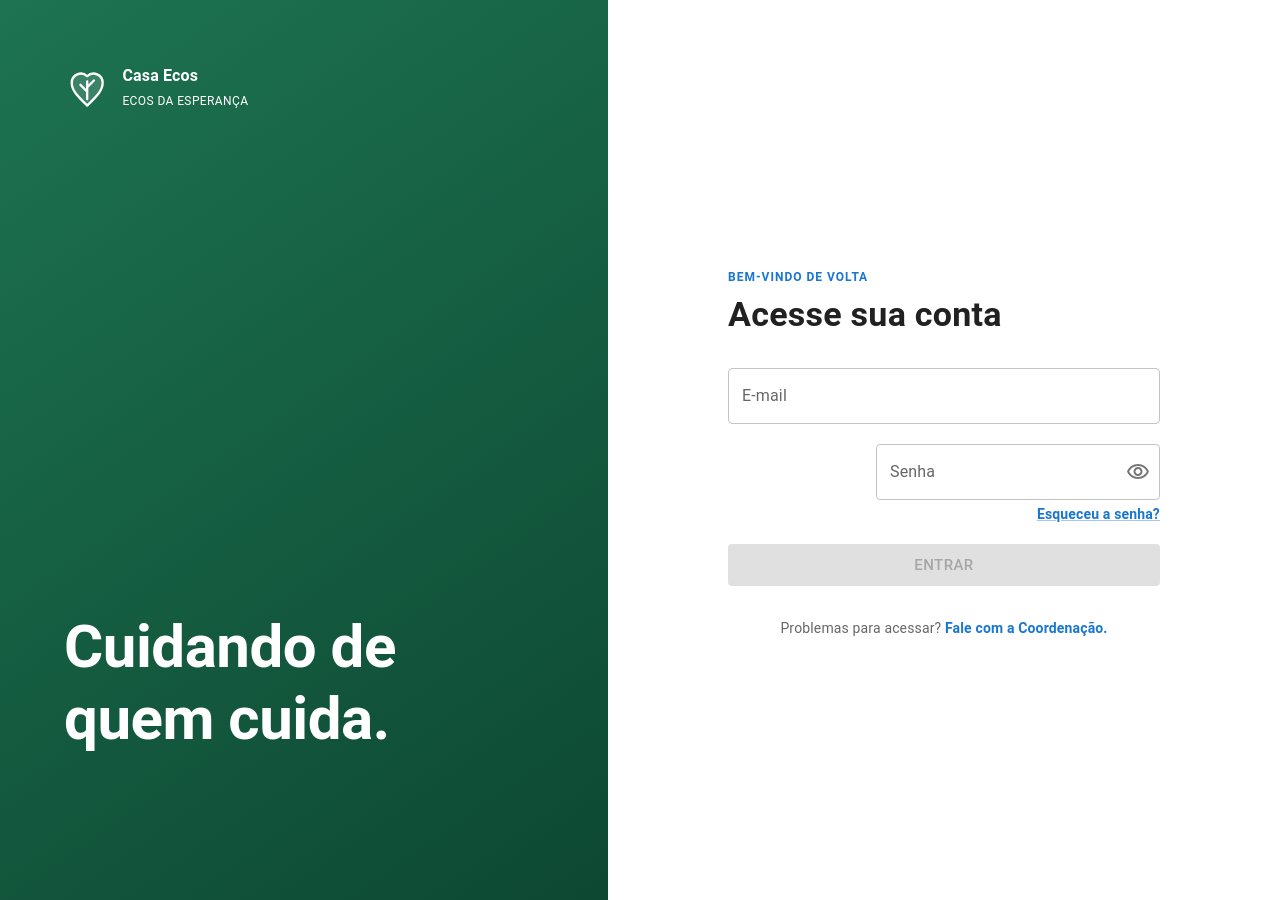
App › mostra a mensagem da API para excesso de tentativas
This screenshot has width=1280, height=900.
Type "maria@ecos.org" into the field labelled "E-mail" at (944, 396), box [728,368,1160,424]
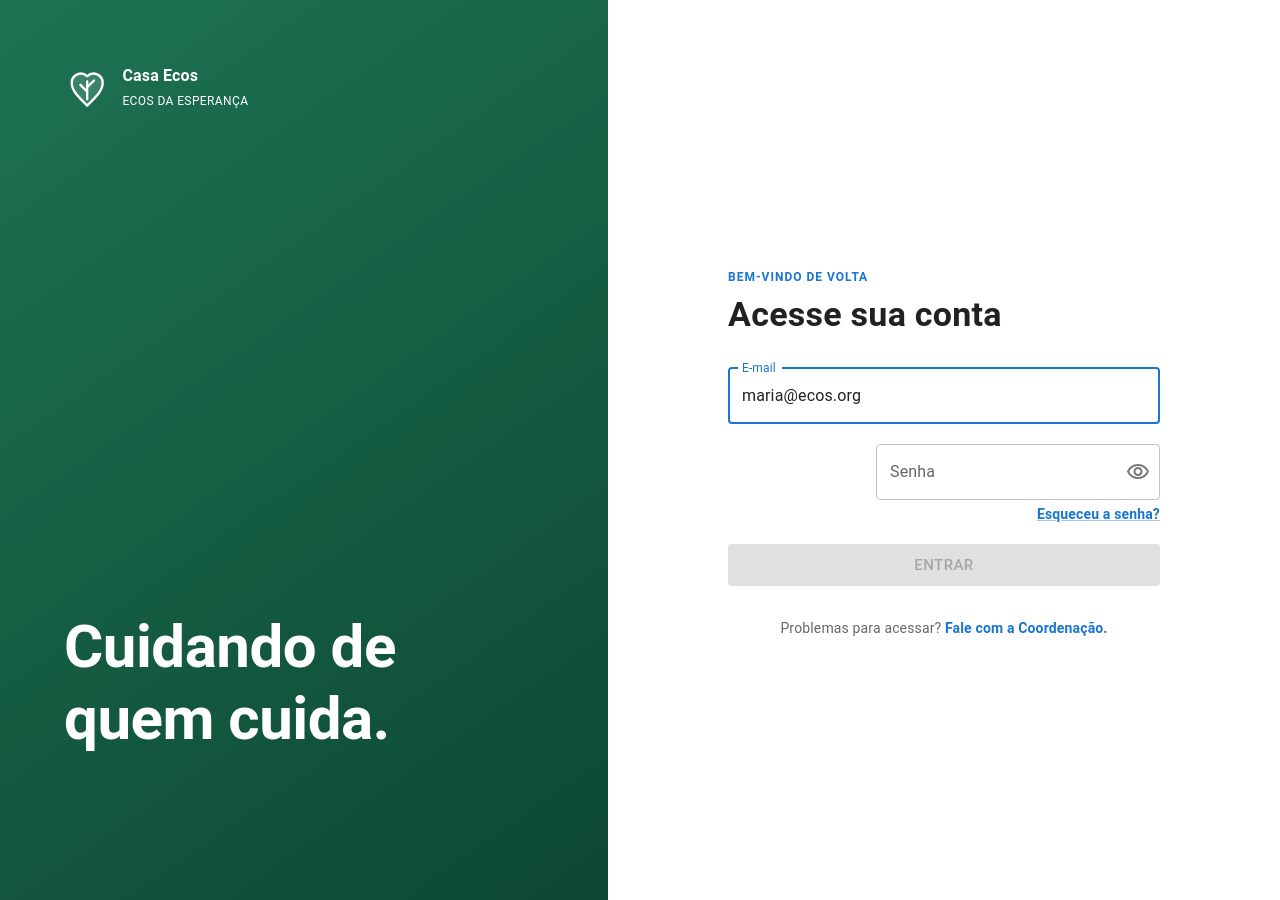
Type "senha-errada" into the password field labelled "Senha" at (993, 472), box [876,444,1110,500]
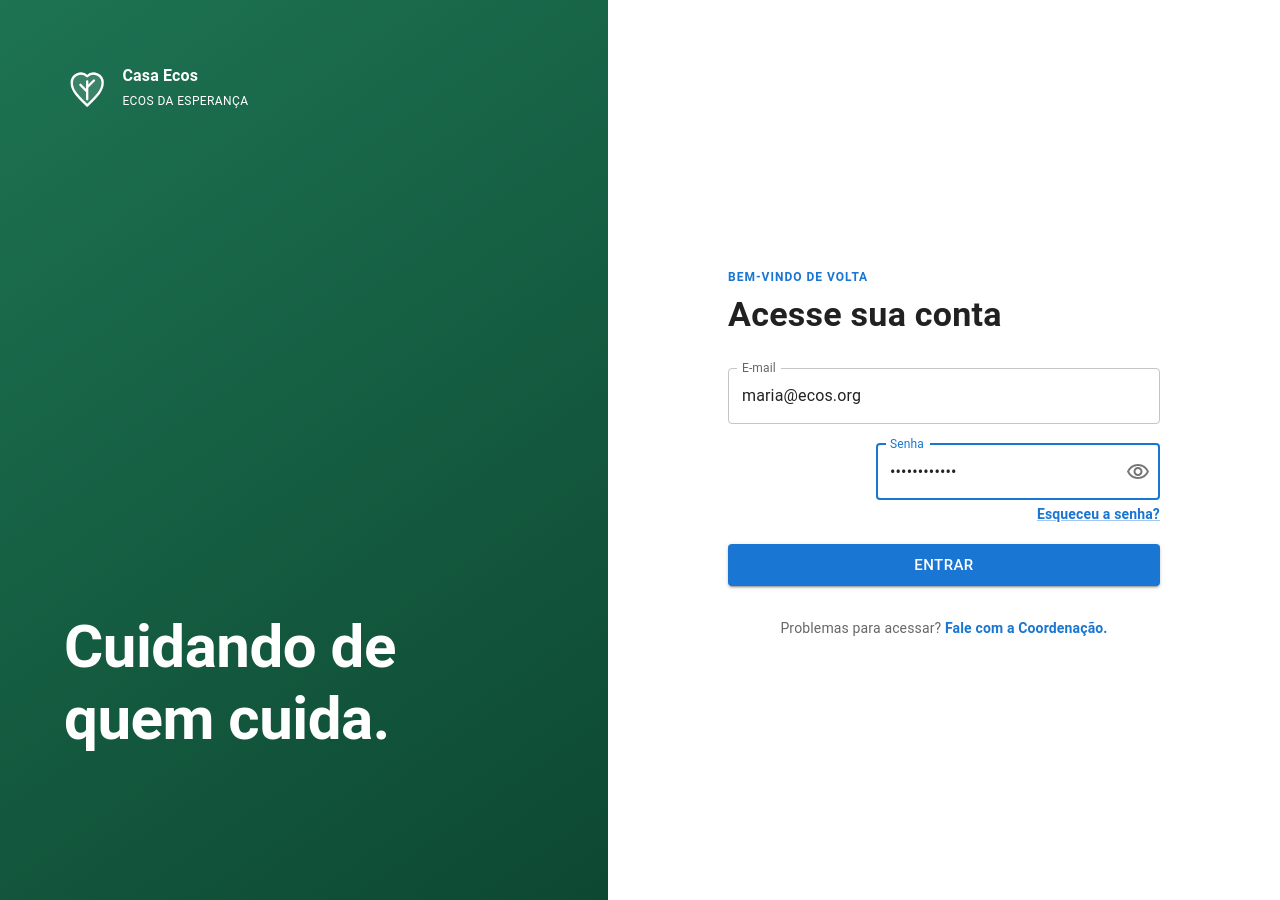
Click the button "Entrar" at (944, 565), box [728,544,1160,586]
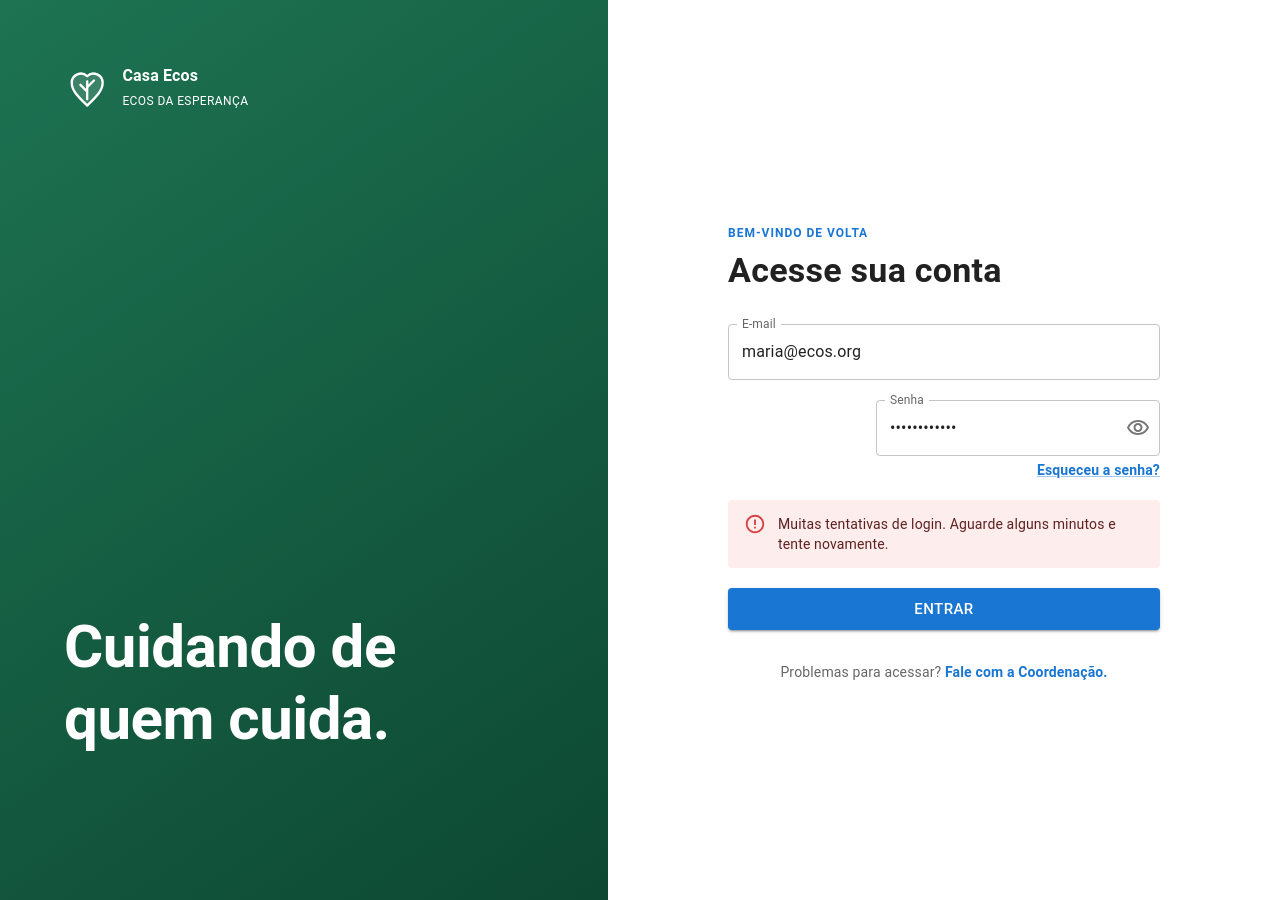
Expected: the message reads "Muitas tentativas de login. Aguarde alguns minutos e tente novamente.", [778,516,1116,552]
